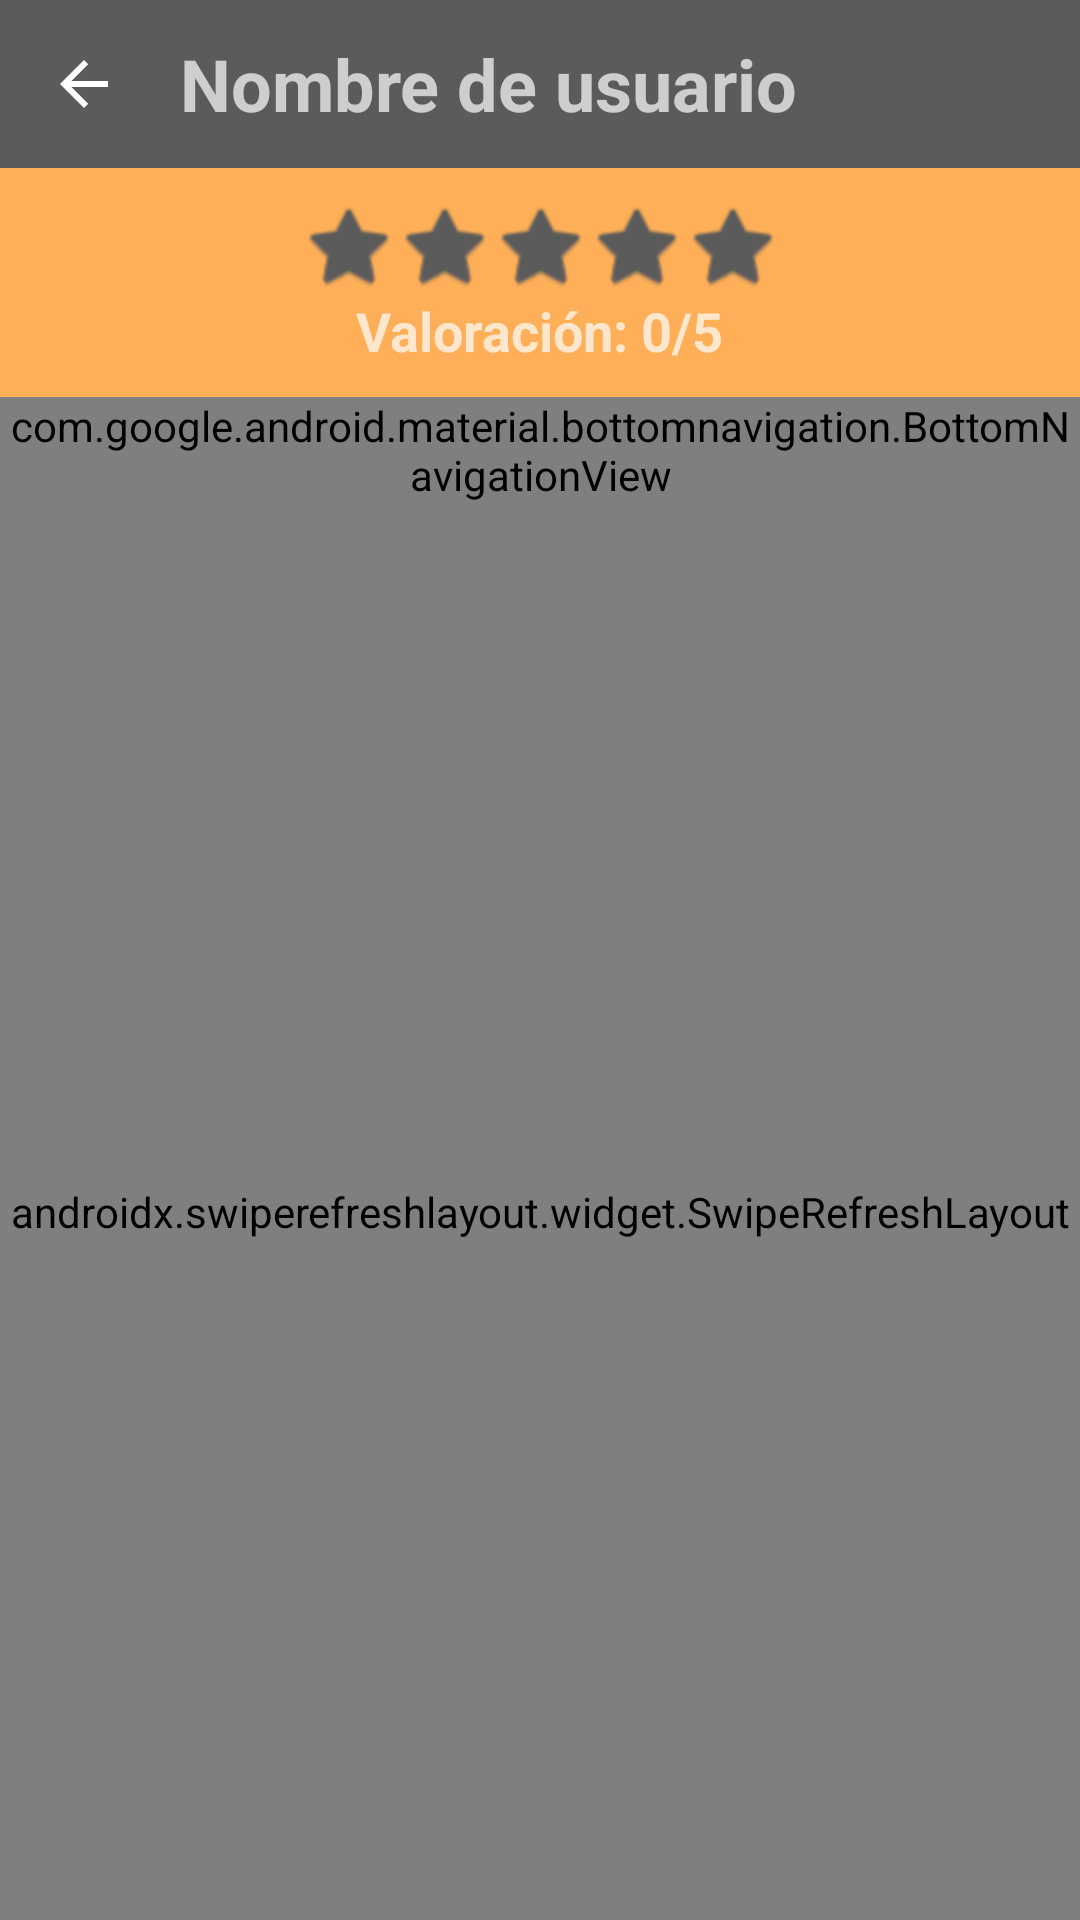

Icon bounding boxes for this 1080×1920 phone screenshot, format (x1, y1, x2, y2):
star: (309, 208, 389, 285), (405, 208, 485, 285), (501, 208, 581, 285), (597, 208, 677, 285), (693, 208, 773, 285)
